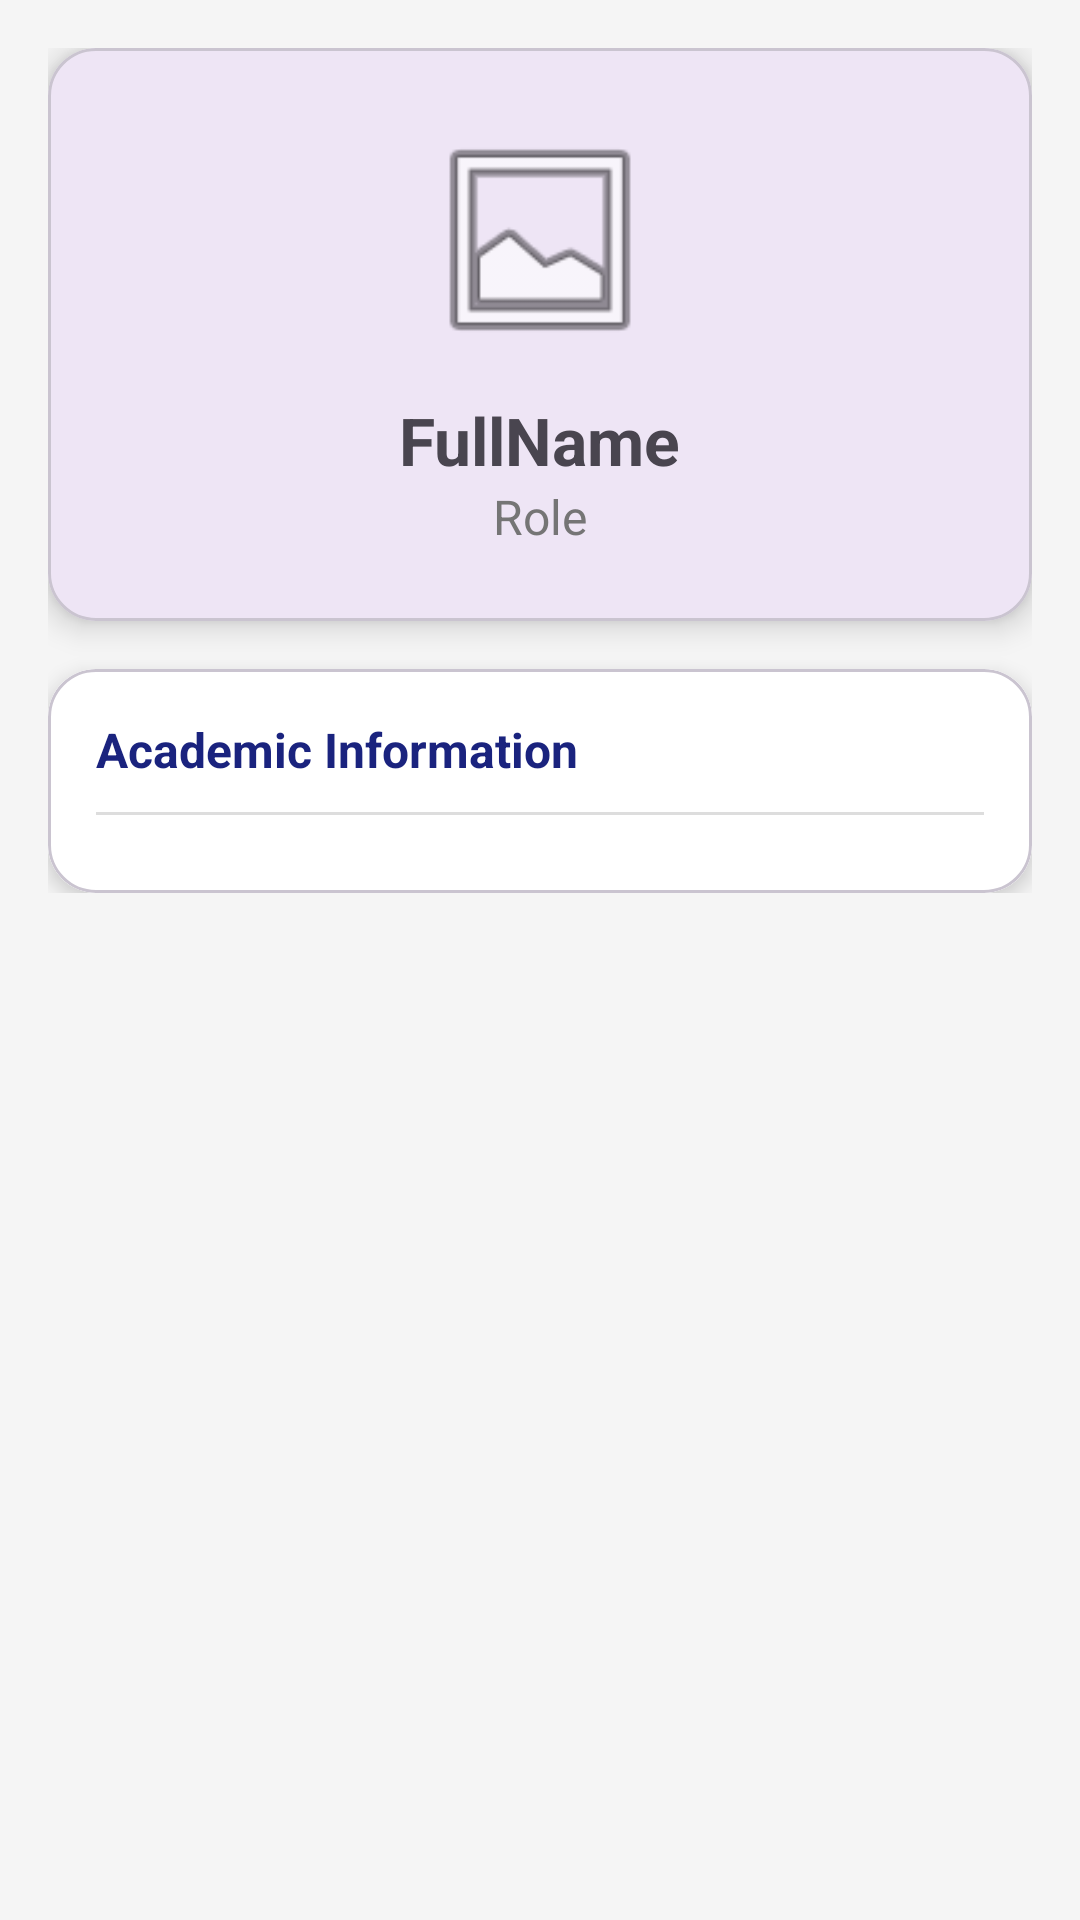

Where to tap for icons on this 1080px×1920px app screen, as (x,y):
gallery: (540,240)
